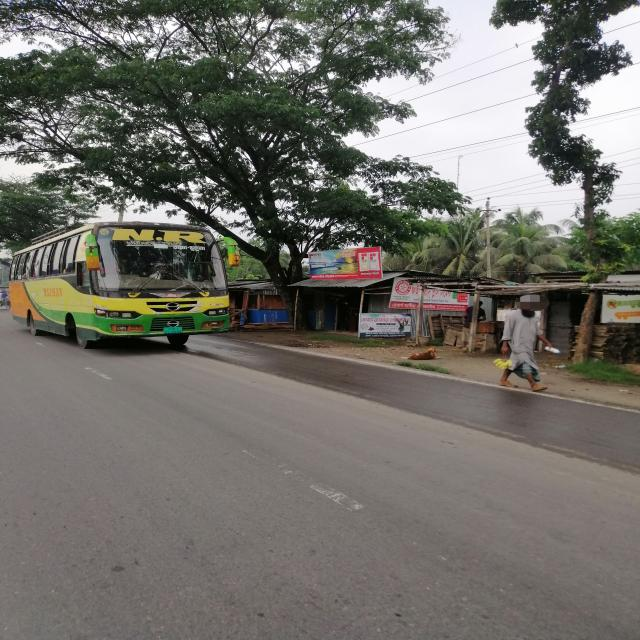Bus: (9, 215, 260, 356)
